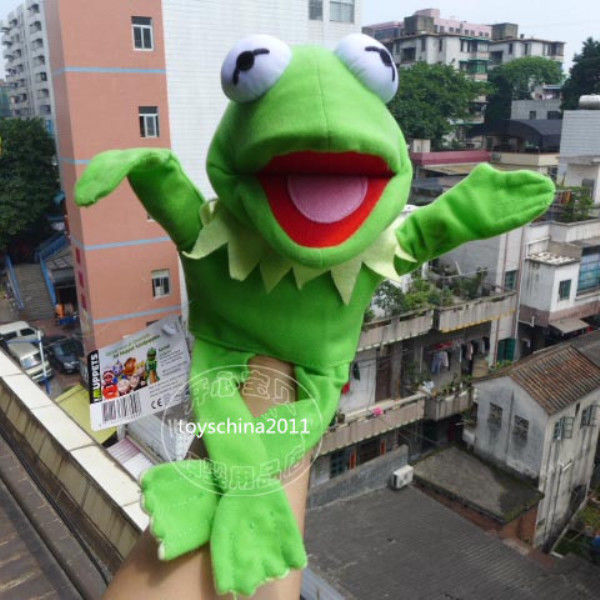kermit: (204, 26, 424, 269)
